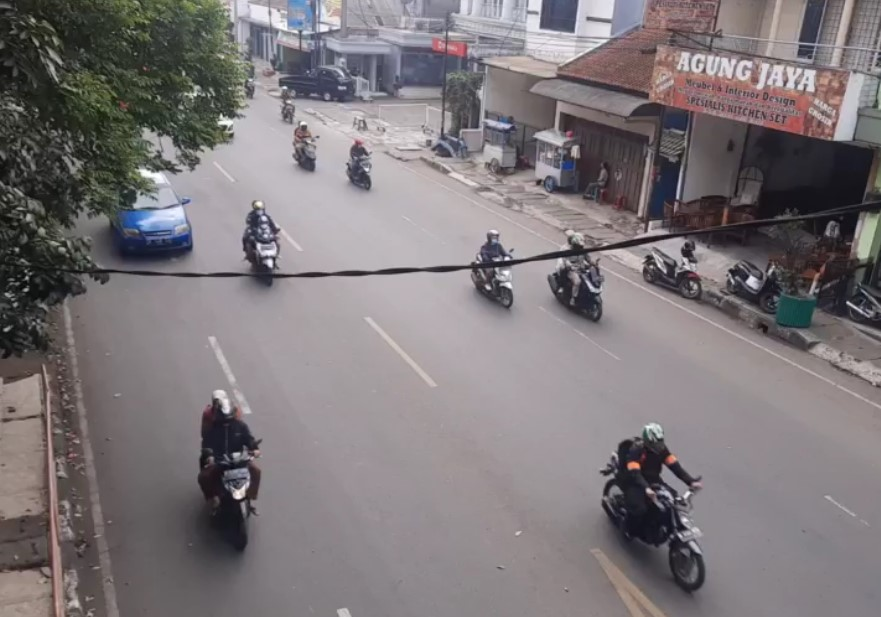motor: (599, 425, 715, 595), (191, 399, 269, 555), (547, 234, 604, 322), (462, 229, 520, 309), (232, 202, 285, 285), (340, 142, 375, 190), (289, 121, 321, 173)
